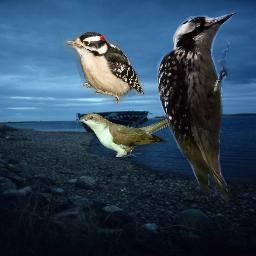Cuckoo: (75, 101, 198, 157)
Woodpecker: (150, 3, 242, 207), (63, 32, 145, 104)
